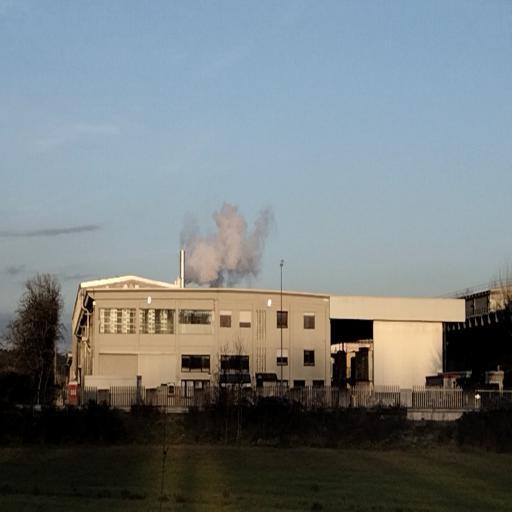leakage: (176, 193, 282, 290)
